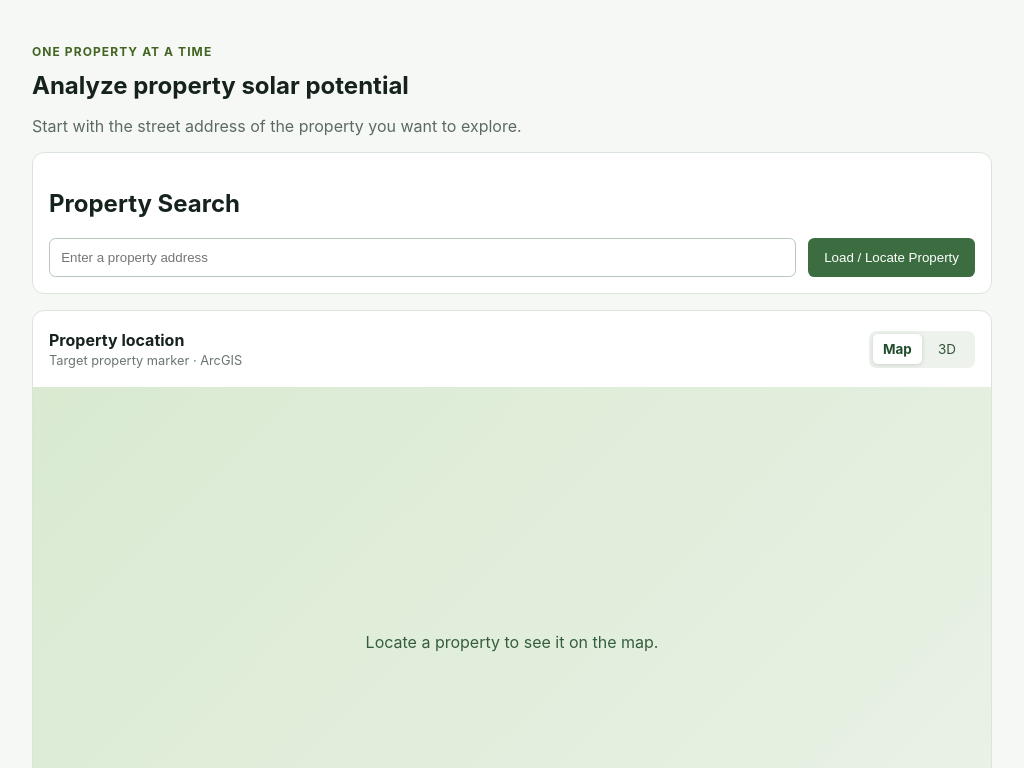
Test: Analyze property search › geocodes and saves after a local miss
The width and height of the screenshot is (1024, 768).
Type "380 New York St, Redlands CA" into the field labelled "property address" at (423, 258), box [49,238,796,277]
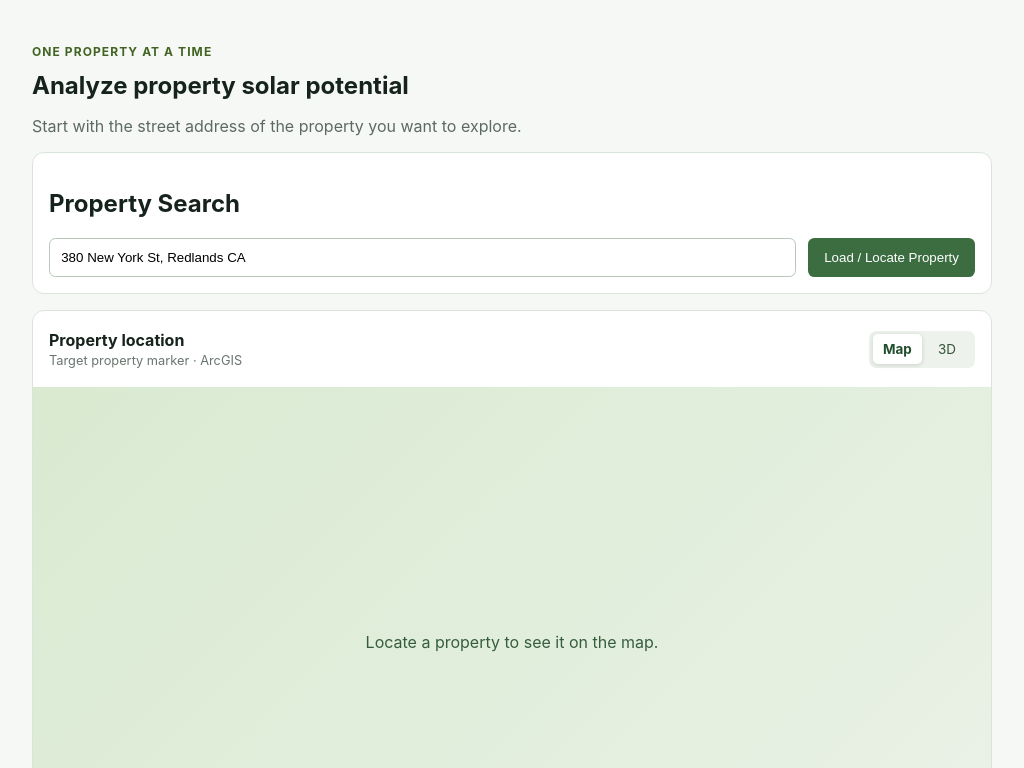
Click the button "Load / Locate Property" at (892, 258), box [808,238,975,277]
(page scrolled)
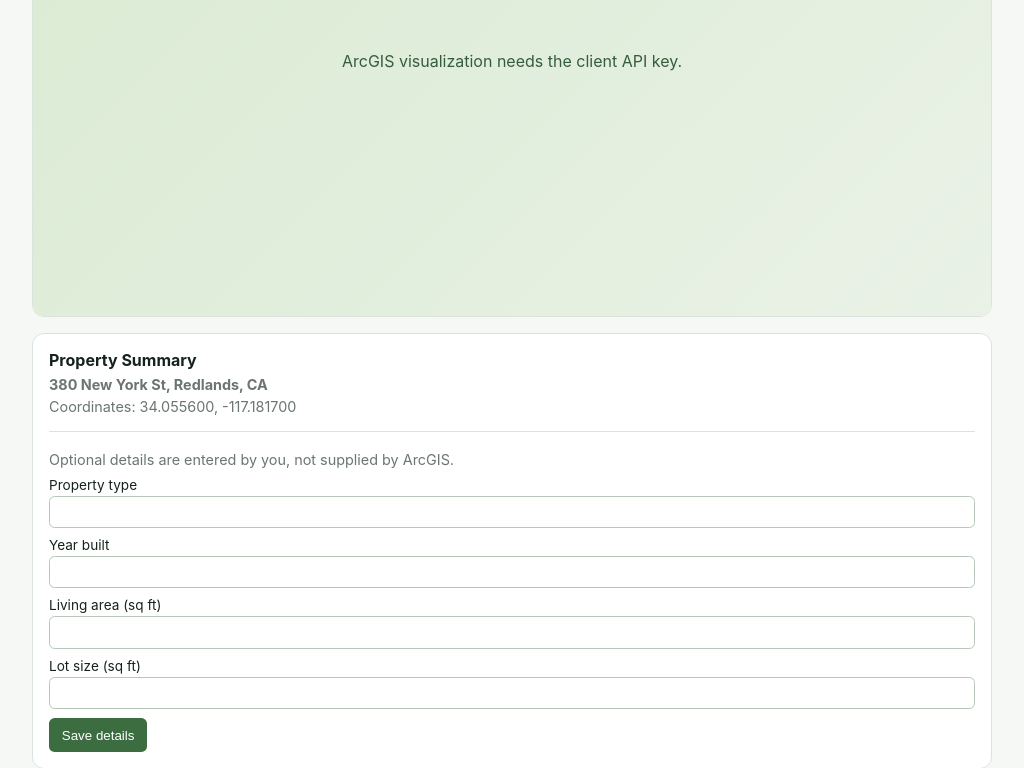
Expected: the text "380 New York St, Redlands, CA" is shown, [49,376,268,393]
